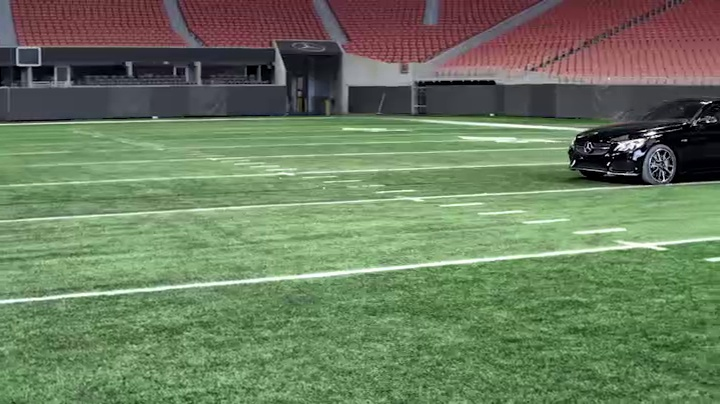amg: (562, 95, 720, 185)
